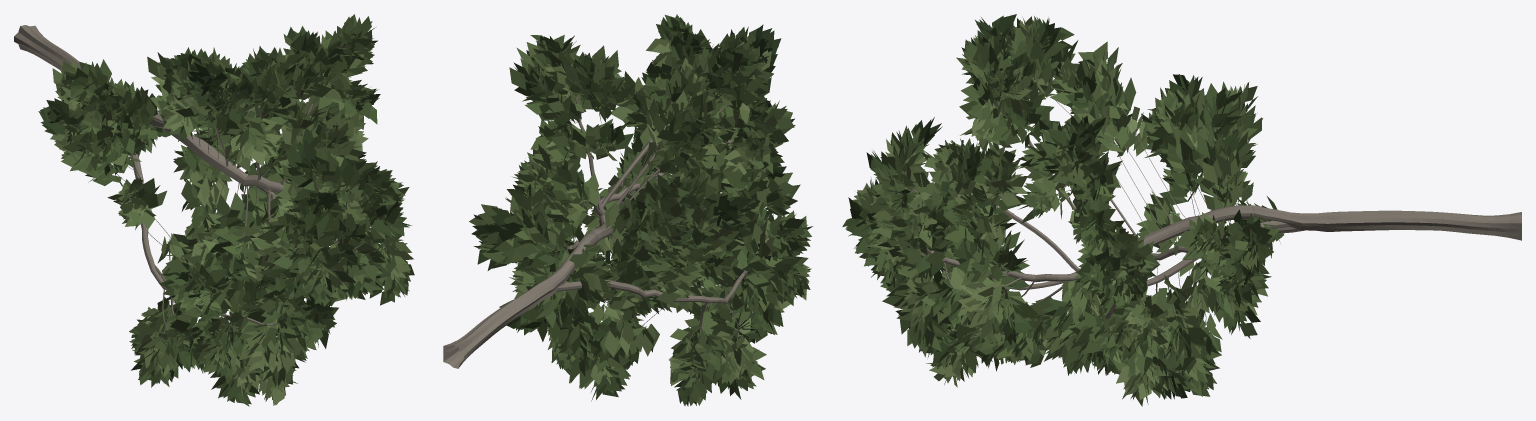
File: tree_near_04.obj
The picture shows the model from 3 angles, left to right: view 1: azimuth 30°, elevation 25°; view 2: azimuth 150°, elevation 25°; view 3: azimuth 270°, elevation 25°; orthographic projection. The views are drawn at different scales.
Parts seen in each view (by area): view 1: tree_near_04; view 2: tree_near_04; view 3: tree_near_04.
Boxes of the visible parts, <box> form: tree_near_04: <box>14,14,414,406</box>; tree_near_04: <box>443,14,812,406</box>; tree_near_04: <box>842,14,1521,406</box>.
Bounding box in the file's own units: 0.5063 × 0.5837 × 0.9919.
Materials: 1 (1 with a texture image).
